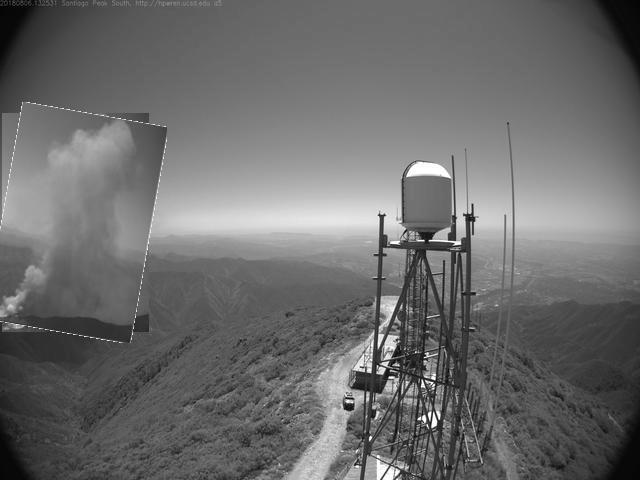smoke: (1, 108, 160, 340)
